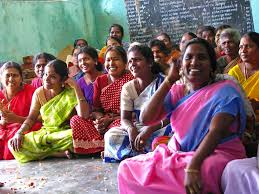indian_female: (171, 26, 229, 94)
